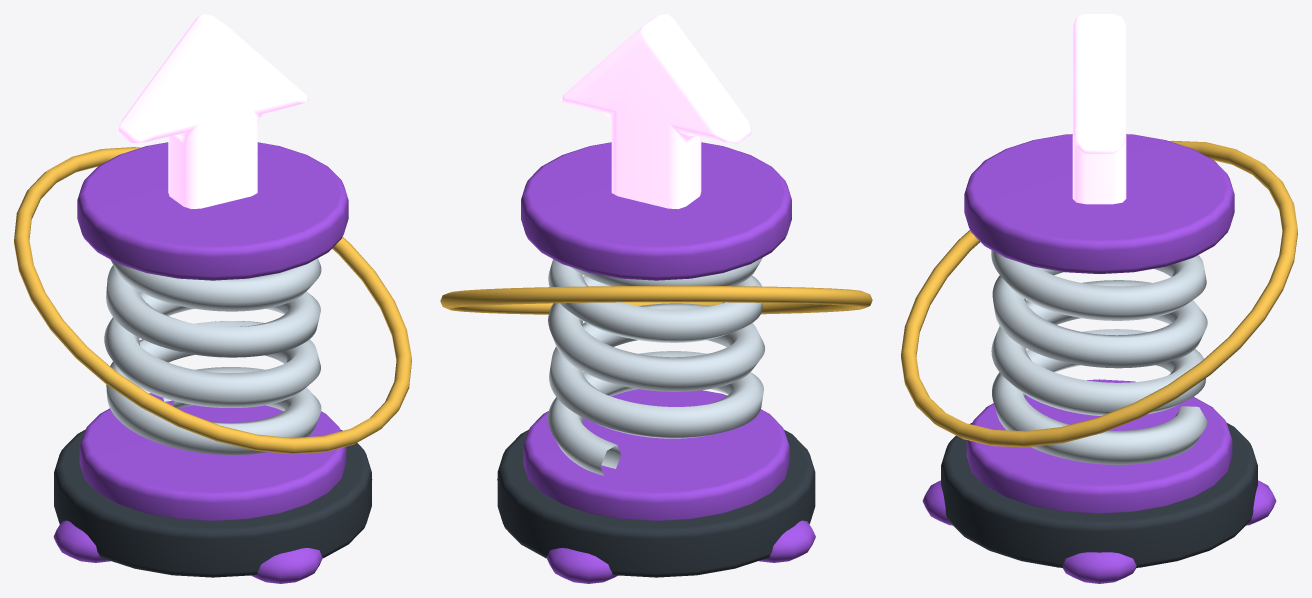
File: launch.glb
The picture shows the model from 3 angles, left to right: view 1: azimuth 30°, elevation 25°; view 2: azimuth 150°, elevation 25°; view 3: azimuth 270°, elevation 25°; orthographic projection.
Visible parts, largest first — view 1: launch__body__Violet, launch__body__Chrome, launch__body__Violet_glow, launch__body__Graphite, launch__orbit__Gold; view 2: launch__body__Violet, launch__body__Chrome, launch__body__Violet_glow, launch__body__Graphite, launch__orbit__Gold; view 3: launch__body__Violet, launch__body__Chrome, launch__body__Graphite, launch__orbit__Gold, launch__body__Violet_glow.
Part boxes in pixels (bbox=[...]): launch__body__Violet: bbox=[53, 142, 372, 583]; launch__body__Chrome: bbox=[104, 258, 321, 454]; launch__body__Violet_glow: bbox=[117, 14, 308, 208]; launch__body__Graphite: bbox=[54, 430, 371, 577]; launch__orbit__Gold: bbox=[14, 147, 411, 454]; launch__body__Violet: bbox=[497, 142, 815, 583]; launch__body__Chrome: bbox=[548, 257, 764, 475]; launch__body__Violet_glow: bbox=[560, 14, 752, 208]; launch__body__Graphite: bbox=[497, 429, 815, 577]; launch__orbit__Gold: bbox=[440, 286, 872, 314]; launch__body__Violet: bbox=[922, 134, 1276, 583]; launch__body__Chrome: bbox=[991, 250, 1207, 464]; launch__body__Graphite: bbox=[941, 422, 1257, 567]; launch__orbit__Gold: bbox=[901, 140, 1297, 447]; launch__body__Violet_glow: bbox=[1072, 14, 1126, 204].
Bounding box in the file's own units: 1.79 × 2.4 × 1.7.
